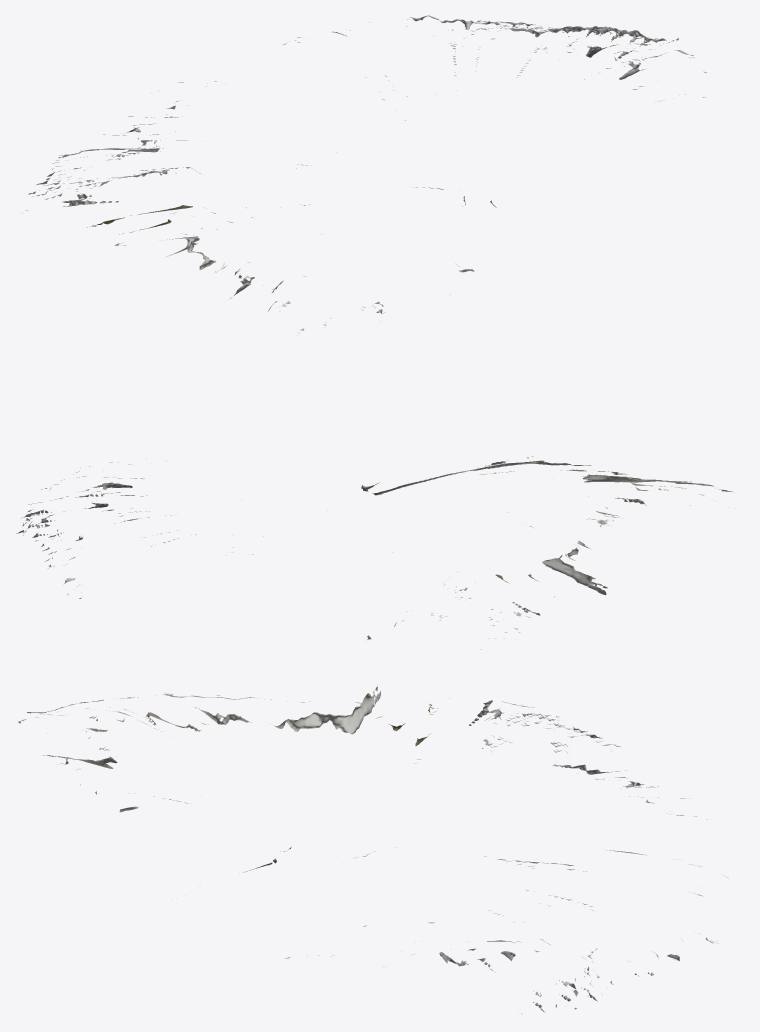
File: world-1770272652096.glb
3 renders of one model, top to bottom at view 1: azimuth 30°, elevation 25°; view 2: azimuth 150°, elevation 25°; view 3: azimuth 270°, elevation 25°, orthographic. The views are drawn at different scales.
Parts seen in each view (by area): view 1: world; view 2: world; view 3: world.
Part boxes in pixels (<box>): world: <box>21,15,706,335</box>; world: <box>16,456,733,649</box>; world: <box>18,686,727,1014</box>.
Bounding box in the file's own units: 184 × 10.52 × 172.
